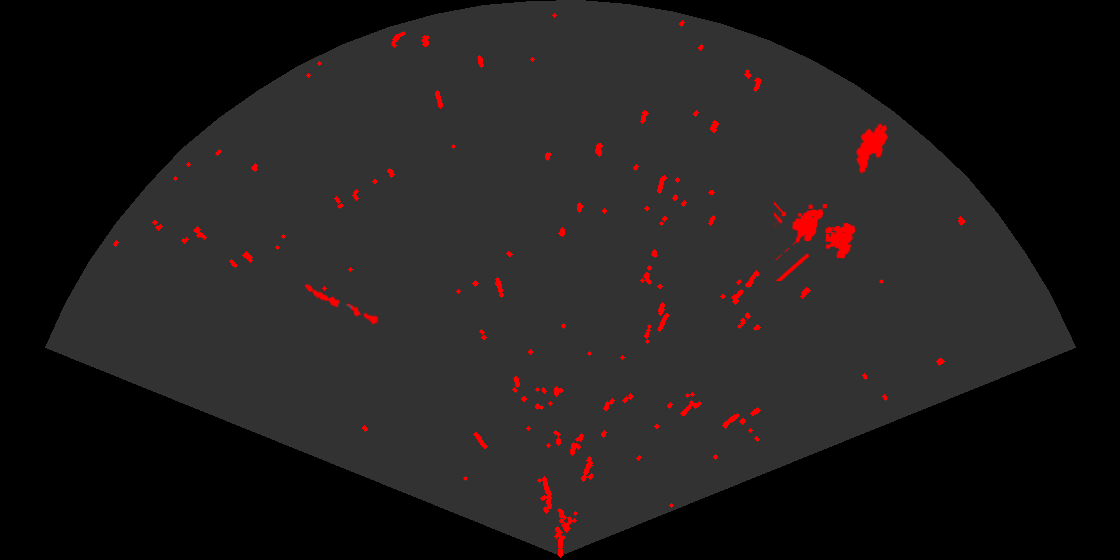AUV: (855, 122, 890, 175)
cage: (774, 200, 857, 281)
chain: (303, 282, 382, 326)
